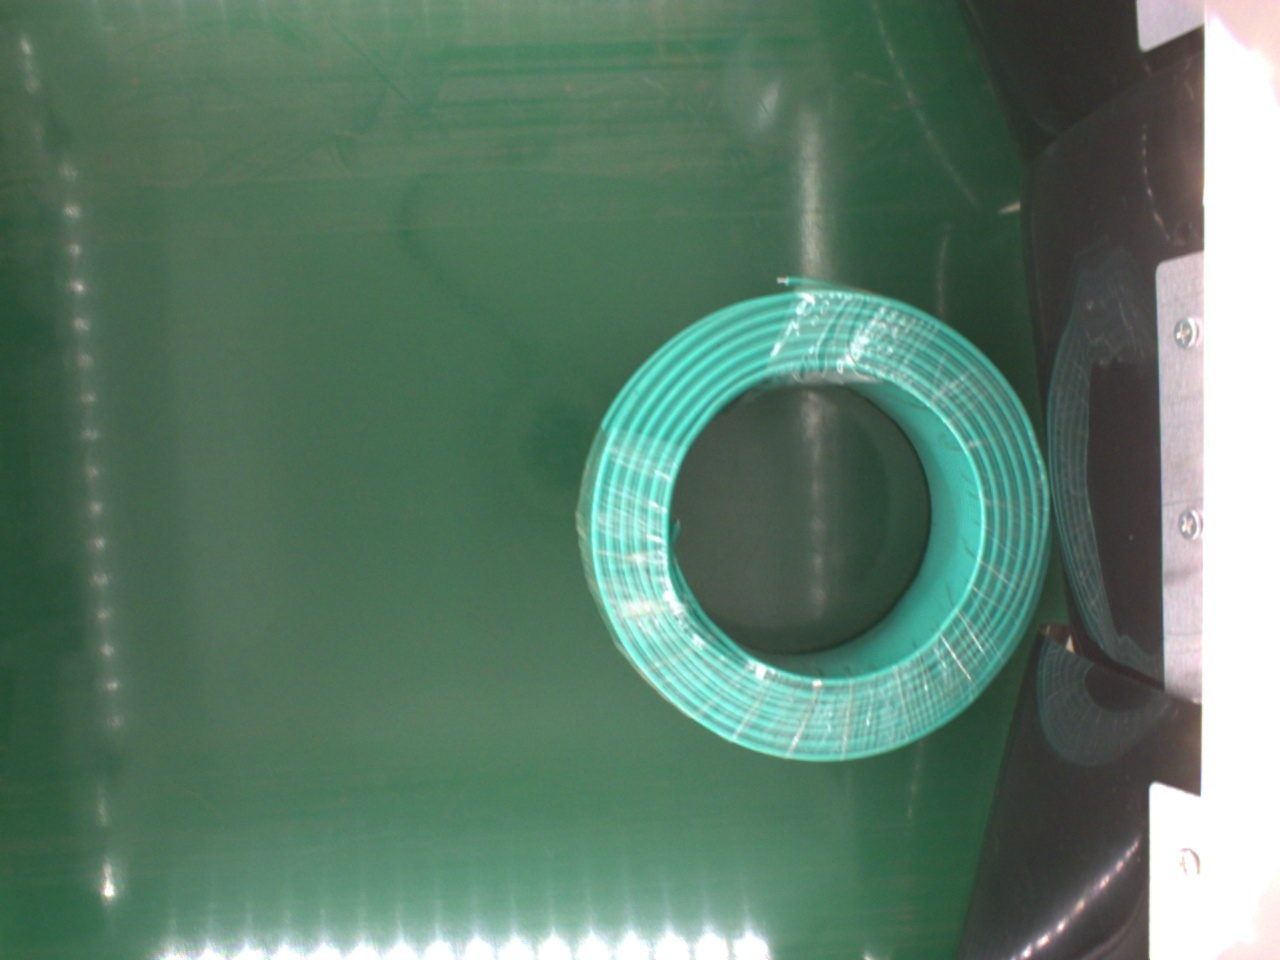green: (579, 282, 1050, 764)
